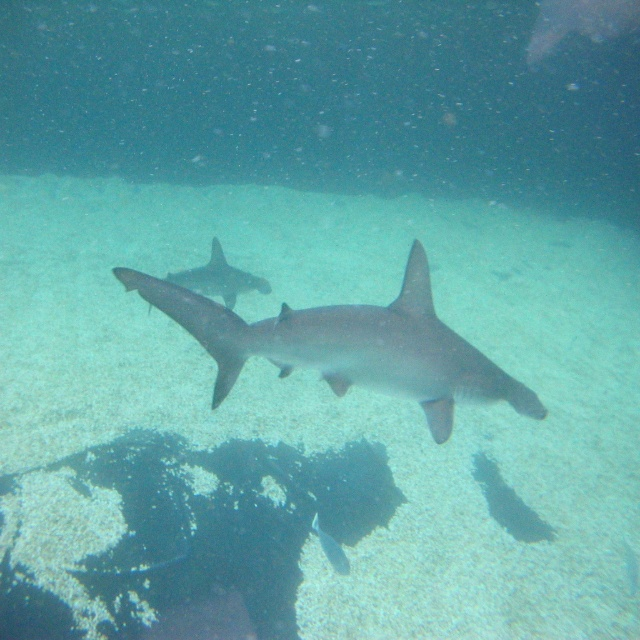Shark: (113, 232, 548, 438), (171, 233, 268, 303)
